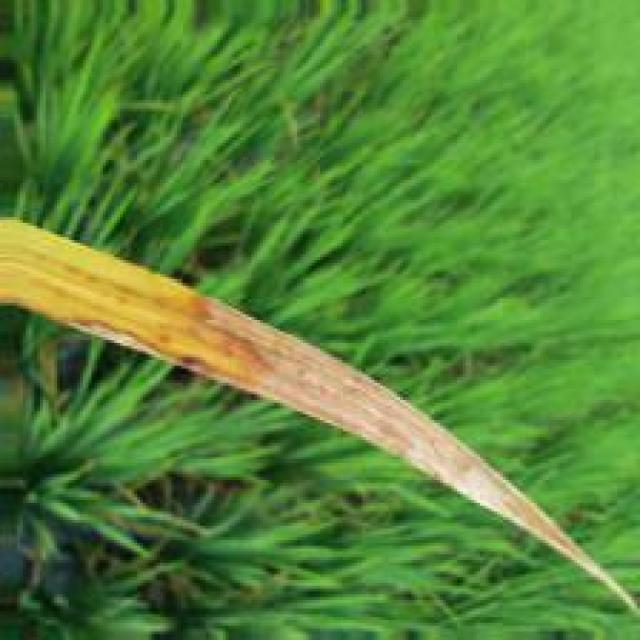Leaf_Scald: (192, 291, 560, 541), (72, 313, 228, 380)
